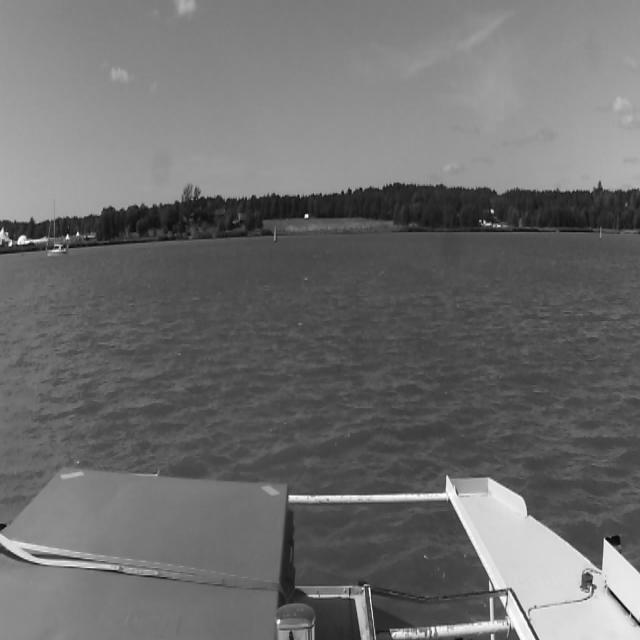ship: (46, 202, 68, 255)
